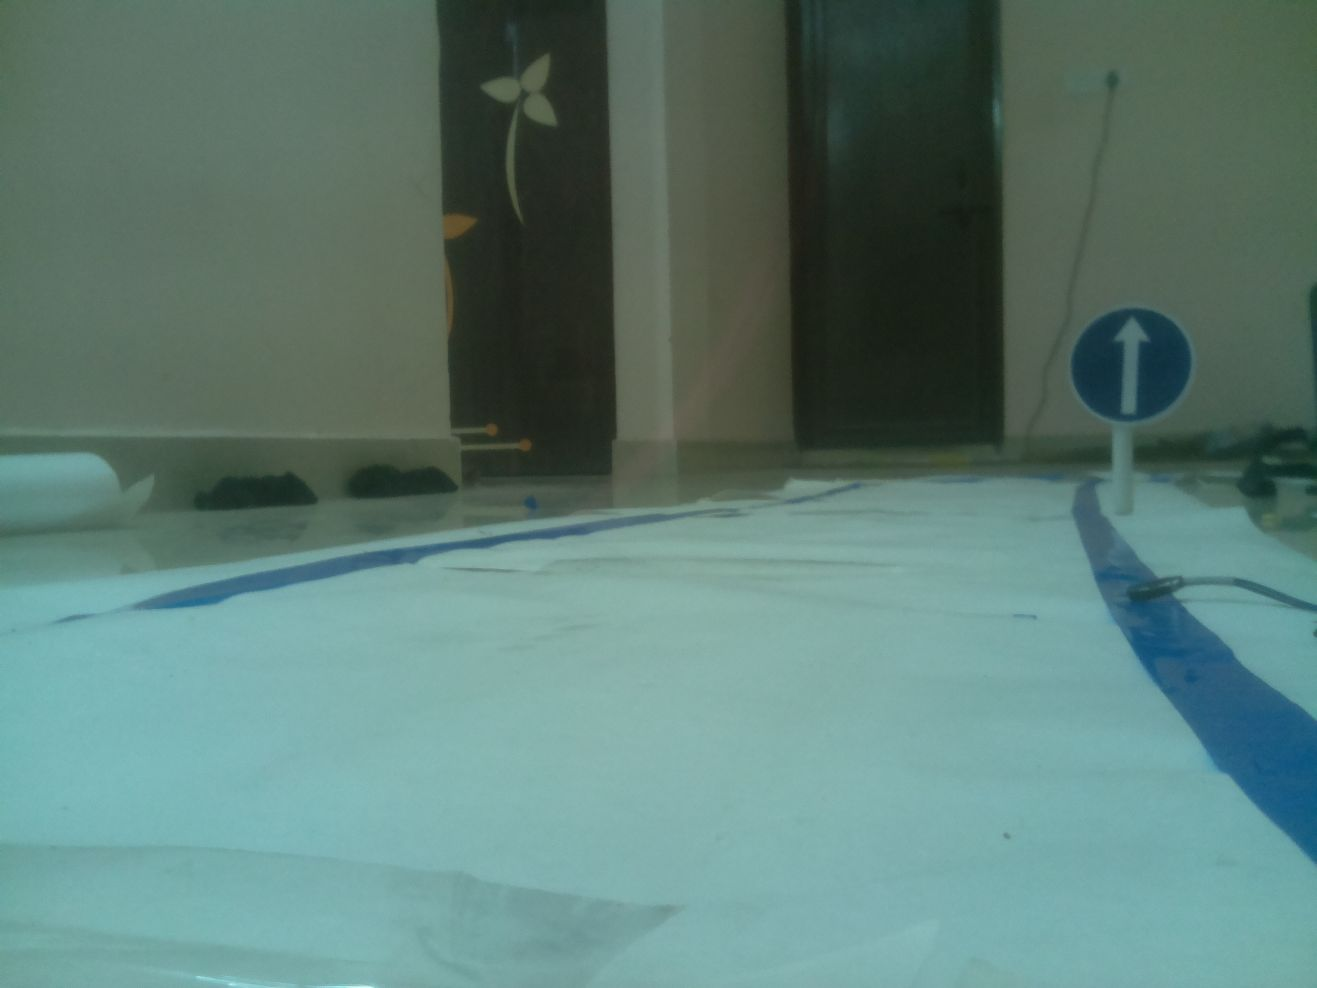go-stright: (1067, 309, 1193, 424)
